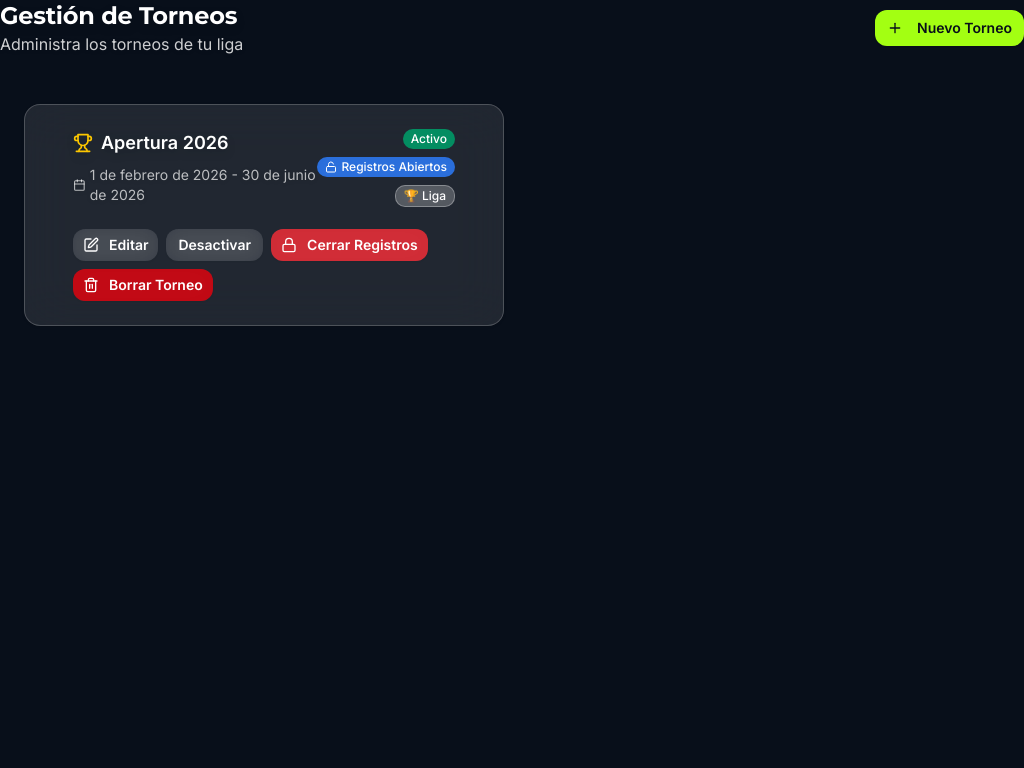
Tournaments page › asks before closing registrations and sends nothing when cancelled
The image size is (1024, 768).
Click the button "Cerrar Registros": (349, 245) [271,229,428,261]
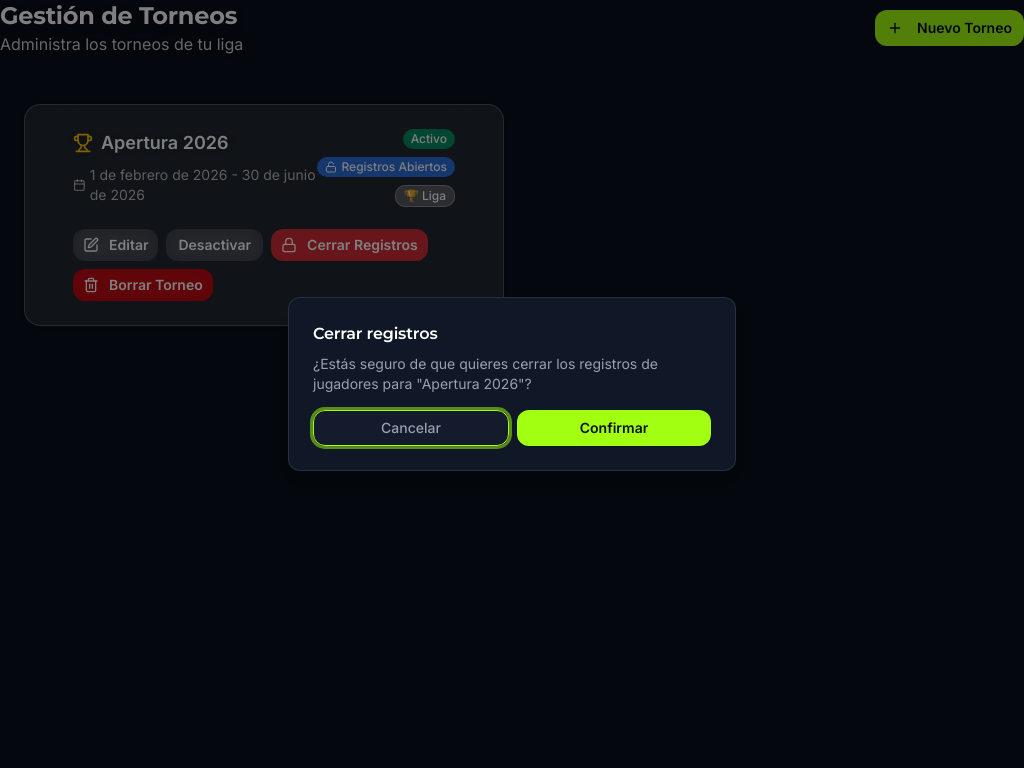
Result: the text "¿Estás seguro de que quieres cerrar los registros de jugadores para \"Apertura 2026\"?" is shown at [313,354,711,394]
Click the button "Cancelar": (411, 428) [313,410,509,446]
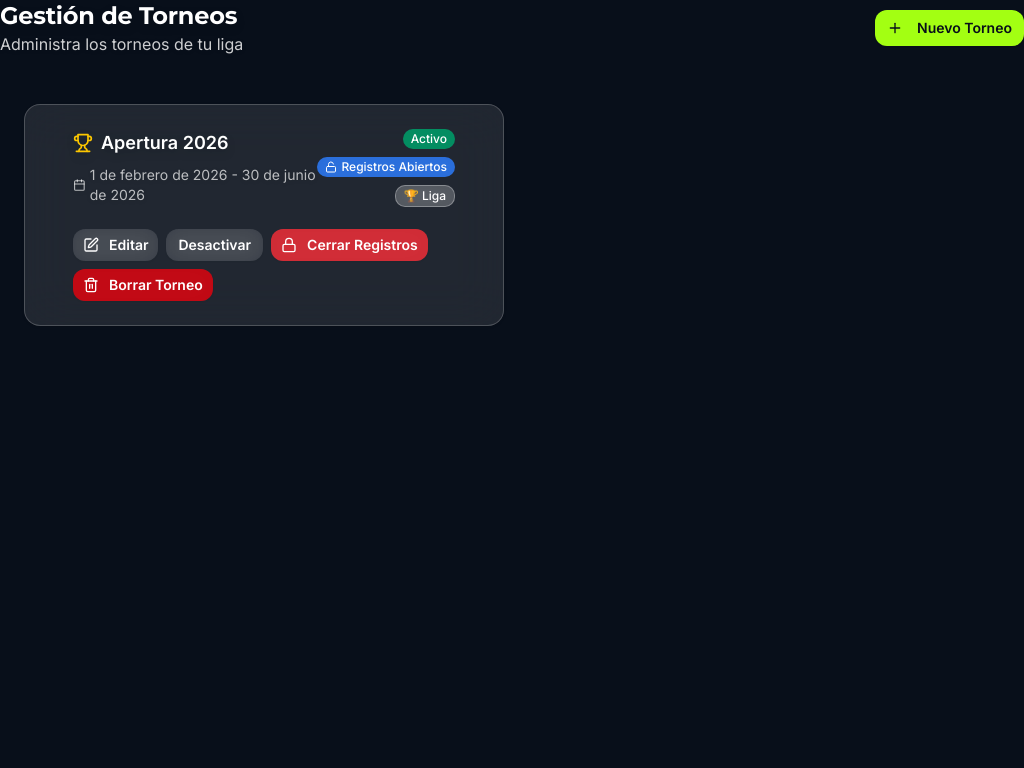
Click the button "Cerrar Registros": (349, 245) [271,229,428,261]
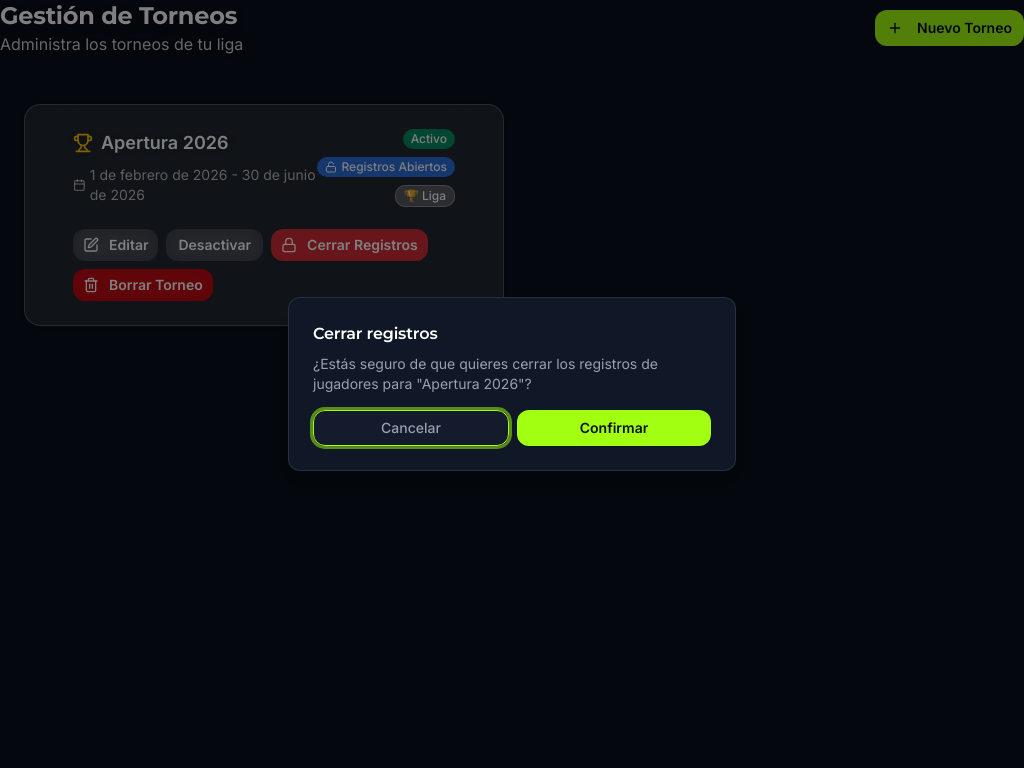
Click the button "Confirmar": (614, 428) [517,410,711,446]
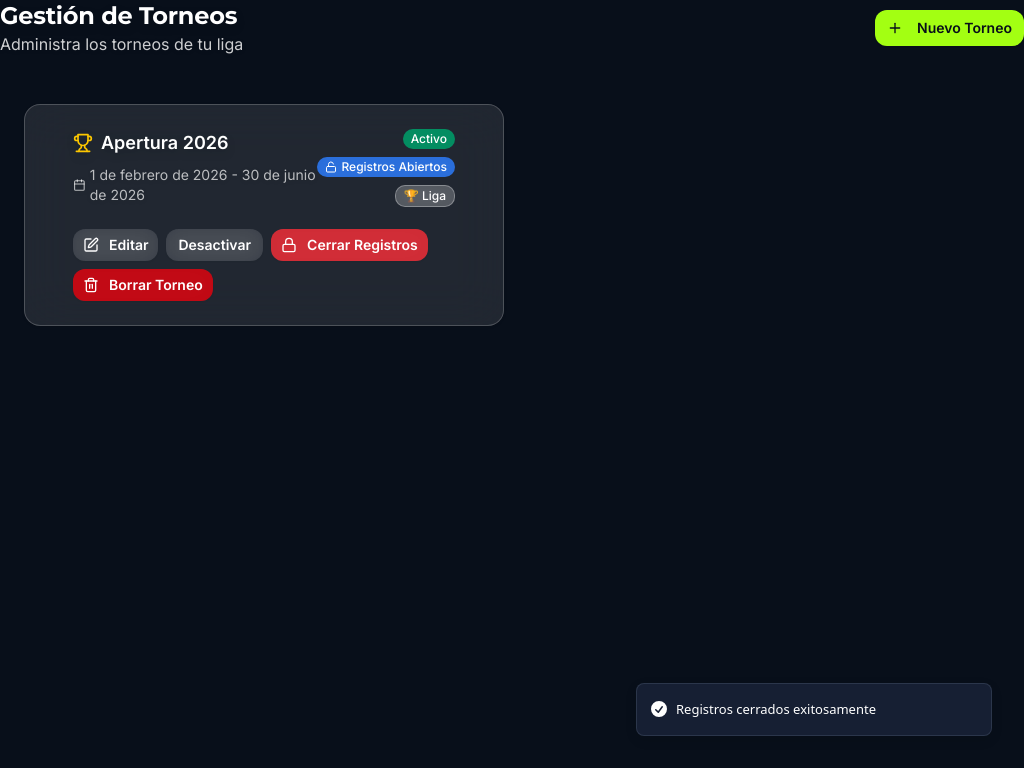
Result: the text "Registros cerrados exitosamente" is shown at [676,700,876,719]
